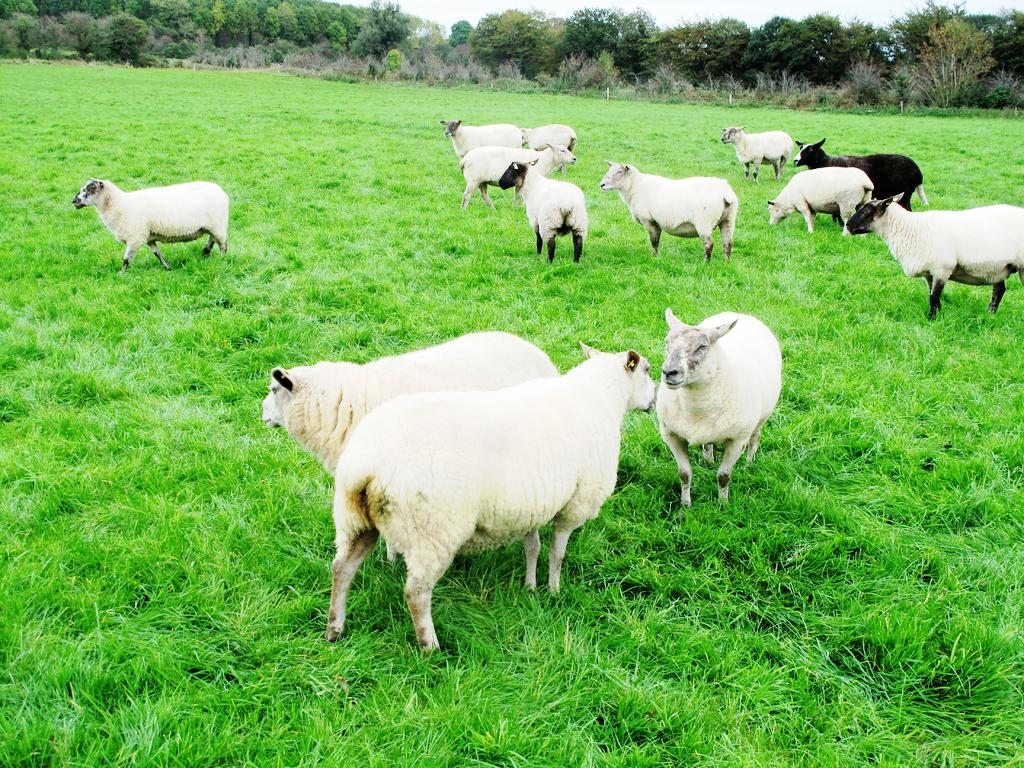Sheep: (330, 346, 646, 654), (255, 328, 576, 472), (843, 188, 1024, 345), (649, 307, 786, 491), (598, 158, 762, 272), (72, 178, 230, 262), (496, 159, 600, 275), (791, 137, 934, 208), (760, 168, 873, 236), (462, 149, 581, 199), (717, 121, 794, 179), (440, 118, 528, 148)
